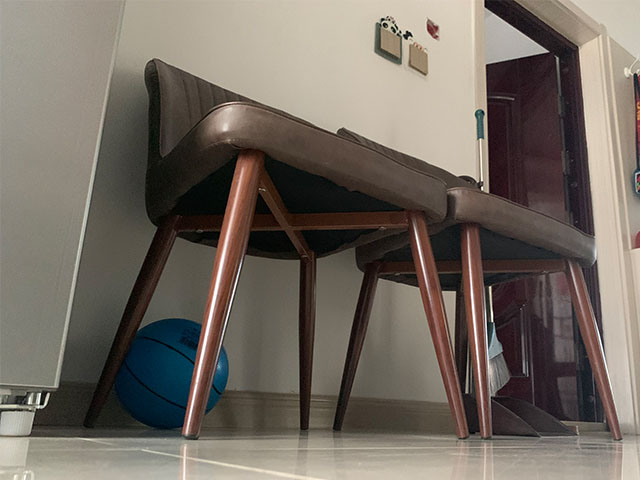stool: (84, 56, 471, 441), (332, 124, 624, 443)
